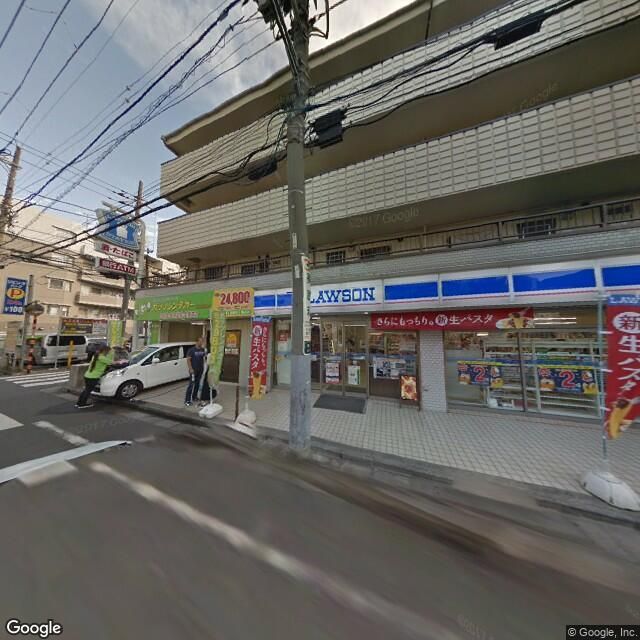lawson: (251, 253, 639, 319), (95, 204, 144, 249)
